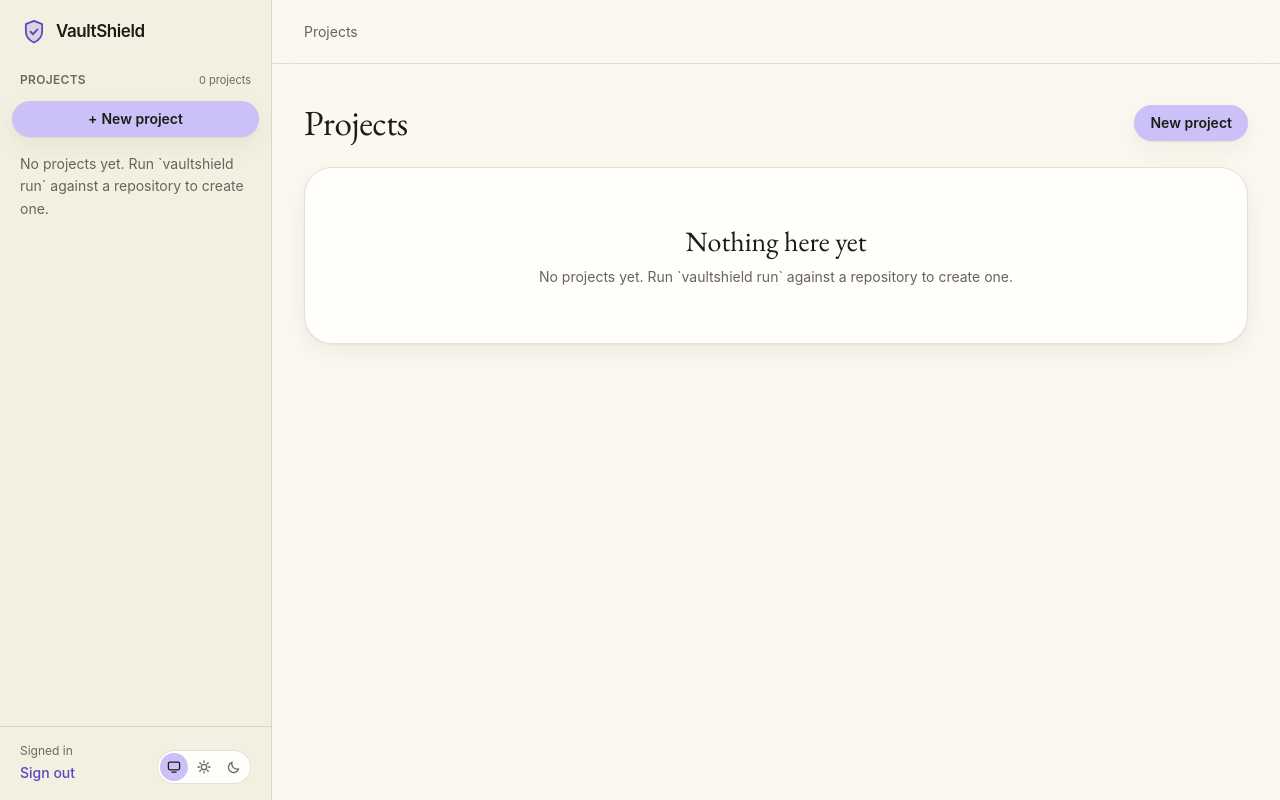
Test case: creates a project, closes the modal, reloads the sidebar, and opens the new project
Expected: the button "Sign out" is shown, [20, 763, 75, 783]
Click the button "+ New project" at [136, 118], box [12, 100, 259, 136]
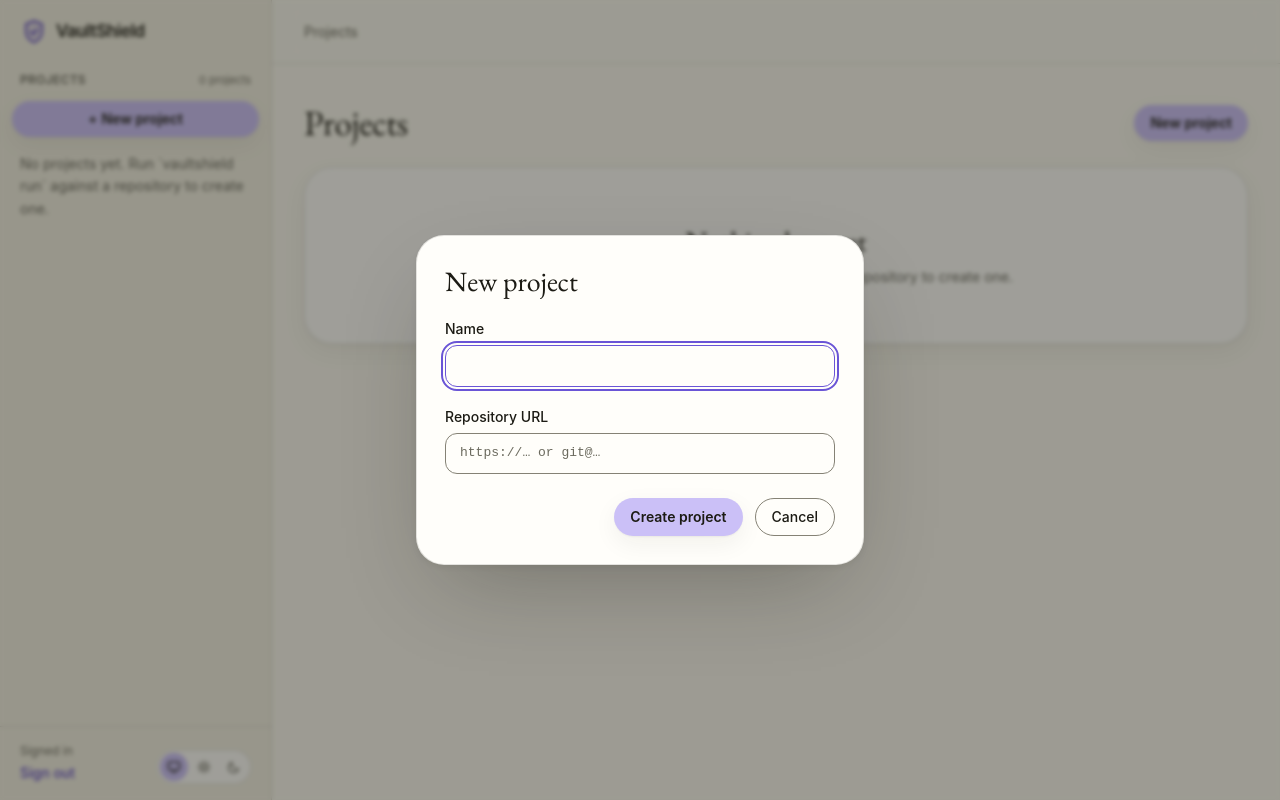
Type "new-service" into the field labelled "Name" at [640, 366], box [445, 345, 835, 387]
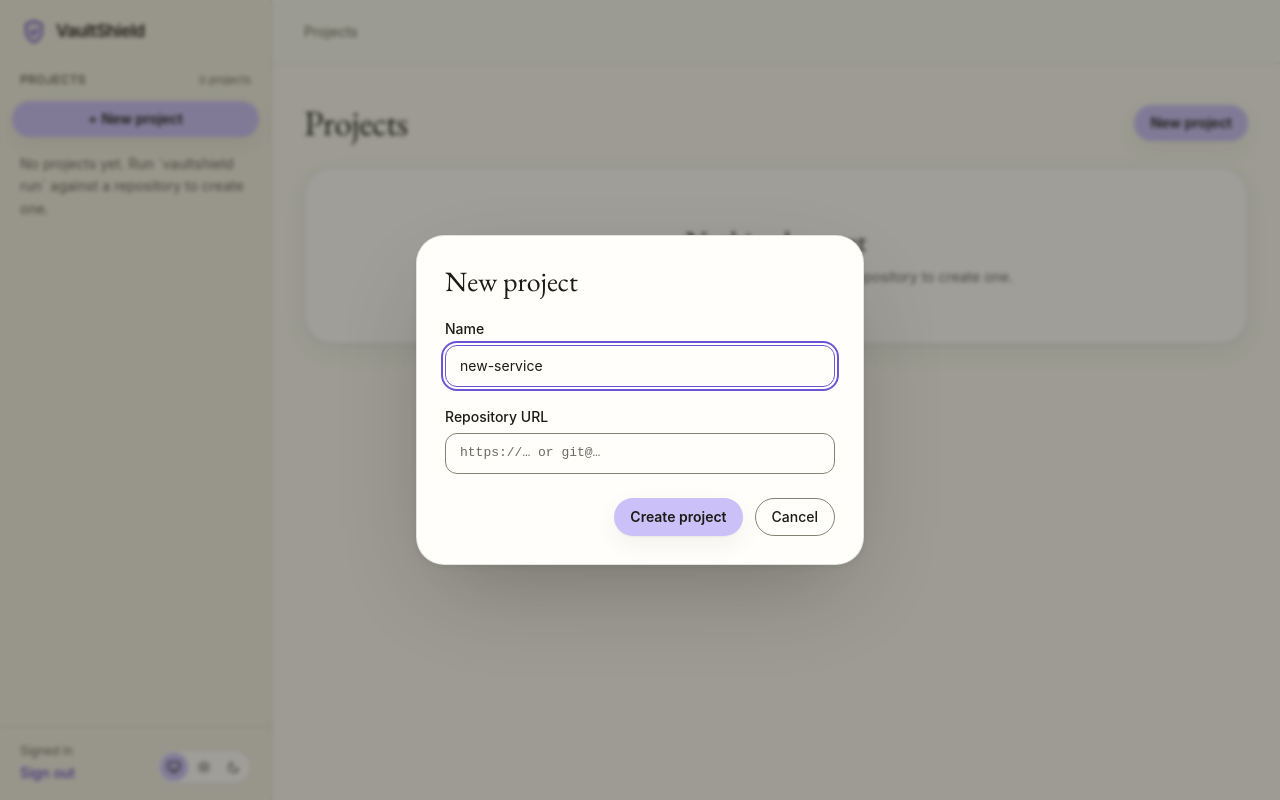
Type "git@github.com:acme/new-service.git" into the field labelled "Repository URL" at [640, 454], box [445, 433, 835, 474]
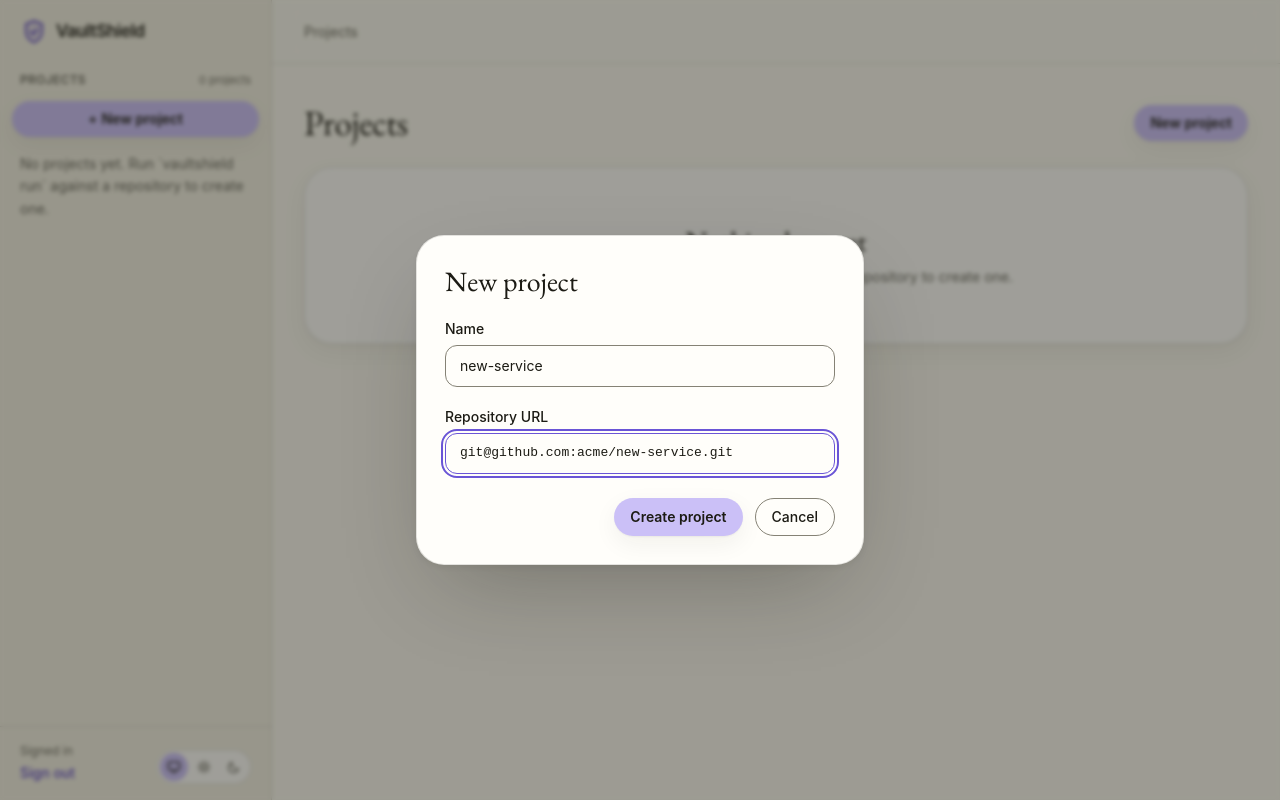
Click the button "Create project" at [678, 517], box [614, 498, 742, 536]
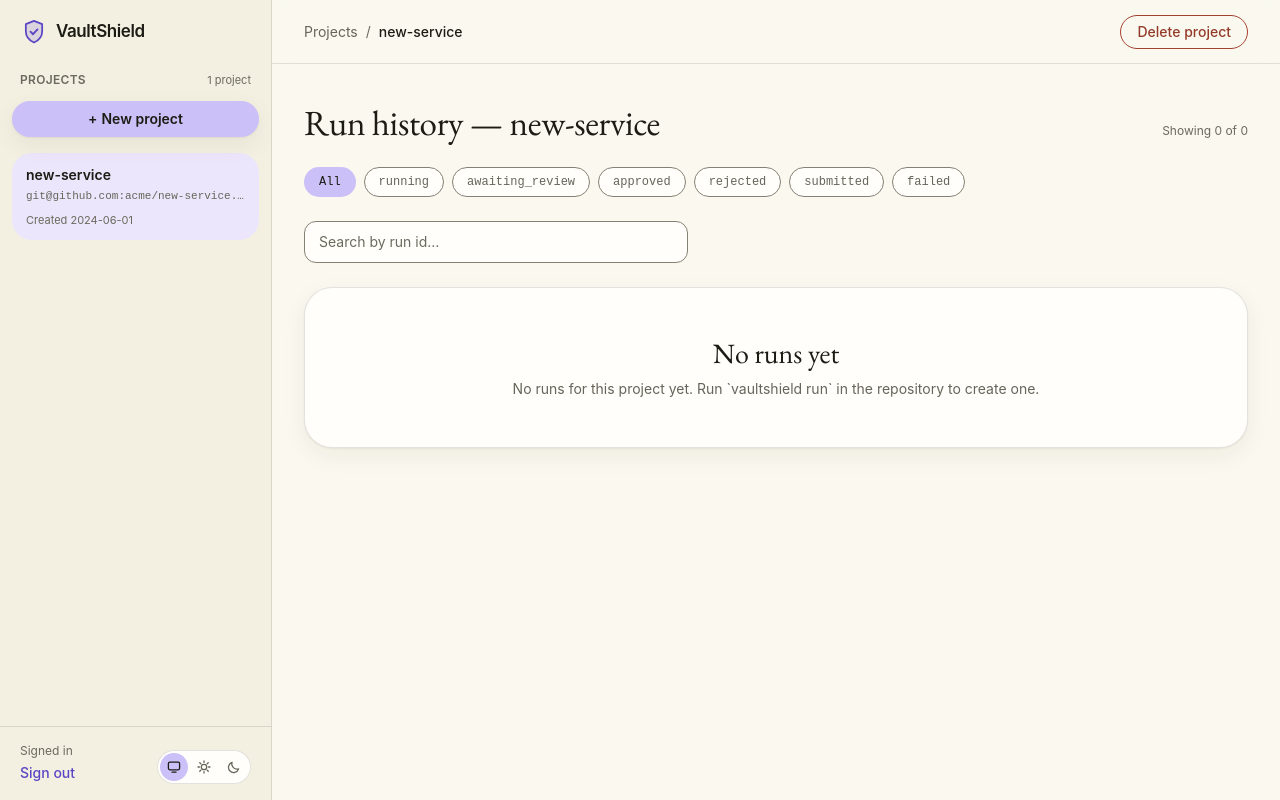
Now the dialog is gone
